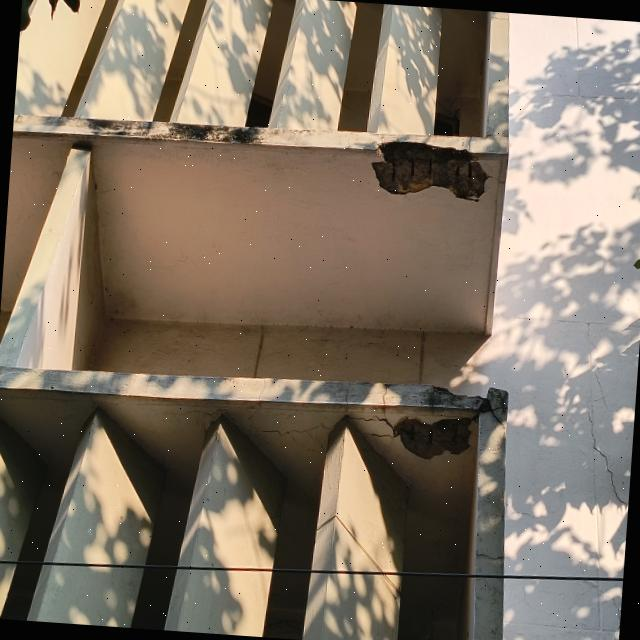crack: (575, 365, 628, 512), (248, 378, 338, 454), (345, 380, 398, 444)
spalling: (372, 142, 487, 199), (393, 417, 473, 459)
stain_mould: (16, 114, 336, 145)
